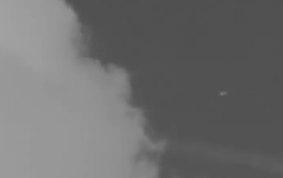Target: (220, 92, 225, 94)
